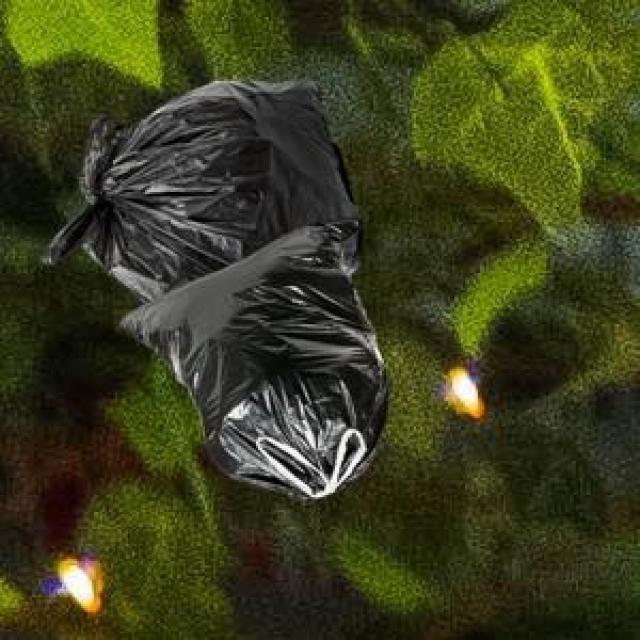miscellaneous trash: (113, 213, 384, 497), (36, 77, 358, 303)
